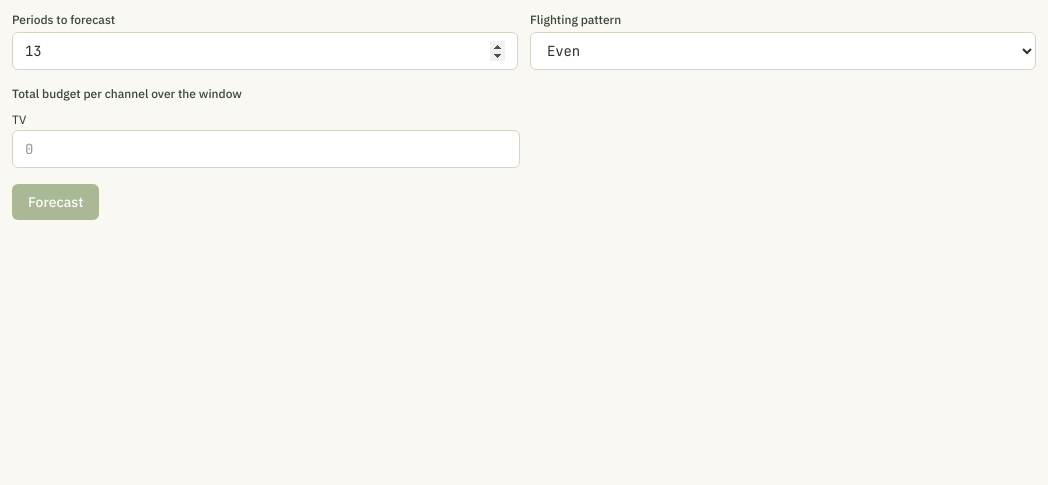
Scenario: ForecastPanel › says "no interval" rather than showing a collapsed band
Step 1. Type "100" into the number field named "TV forecast budget" → (266, 149), box [12, 130, 520, 168]
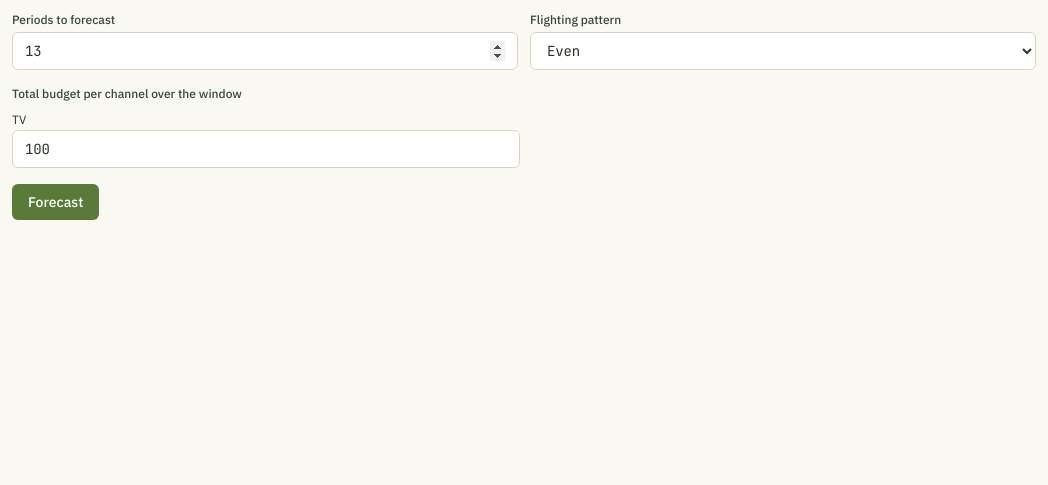
Step 2. Click the button "Forecast" → (56, 202), box [12, 184, 99, 220]
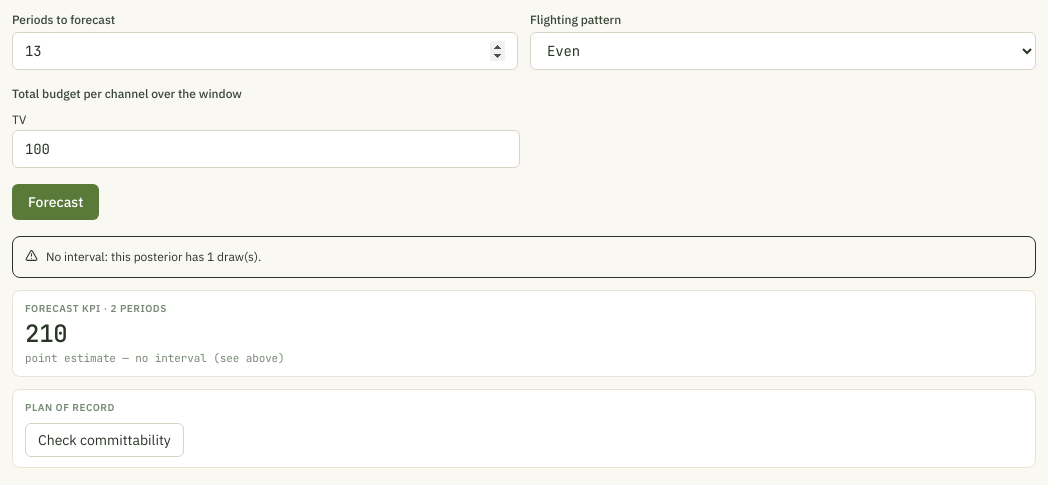
Expected: the text "point estimate — no interval (see above)" is shown, [25, 350, 285, 364]
